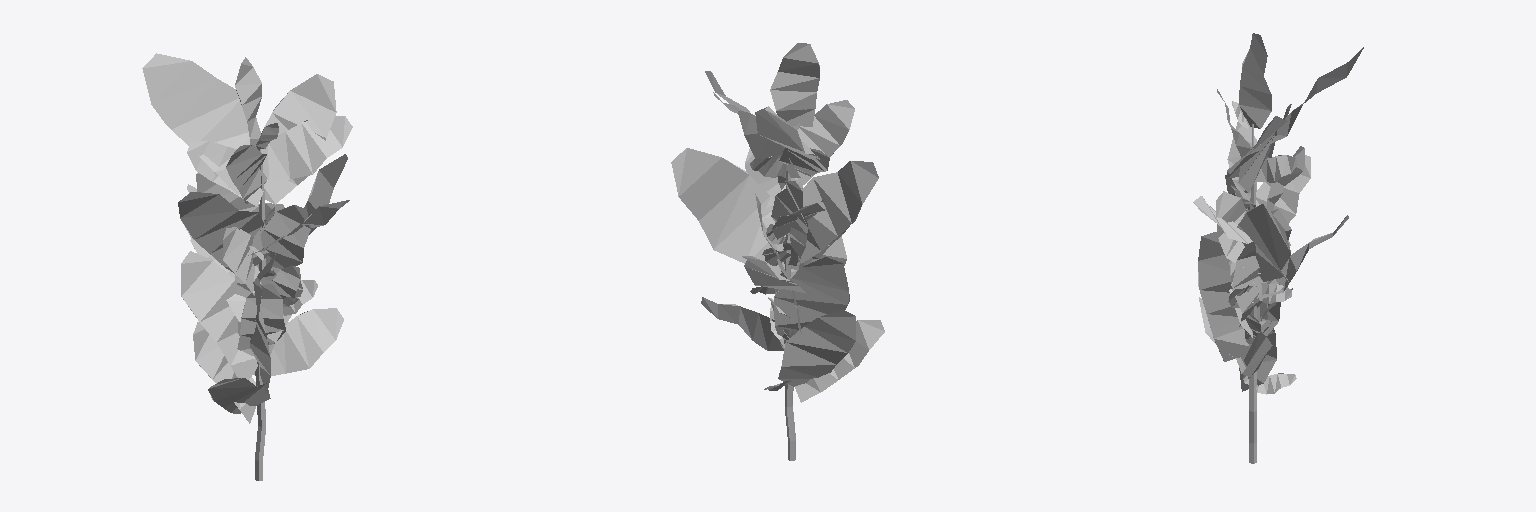
File: tree_3.obj
3 views of the same model, side by side, from view 1: azimuth 30°, elevation 25°; view 2: azimuth 150°, elevation 25°; view 3: azimuth 270°, elevation 25° (orthographic).
Visible parts, largest first — view 1: TexturesCom_Branches0014_1_masked_S.002_TexturesCom_Branches0014, Cylinder.002; view 2: TexturesCom_Branches0014_1_masked_S.002_TexturesCom_Branches0014, Cylinder.002; view 3: TexturesCom_Branches0014_1_masked_S.002_TexturesCom_Branches0014, Cylinder.002.
Part boxes in pixels (x1,y1,x2,y2): TexturesCom_Branches0014_1_masked_S.002_TexturesCom_Branches0014: (142, 53, 352, 423); Cylinder.002: (255, 149, 265, 480); TexturesCom_Branches0014_1_masked_S.002_TexturesCom_Branches0014: (671, 43, 884, 402); Cylinder.002: (784, 125, 795, 460); TexturesCom_Branches0014_1_masked_S.002_TexturesCom_Branches0014: (1193, 33, 1363, 394); Cylinder.002: (1249, 124, 1256, 463).
Size of the model in its own units: 19.36 by 41.31 by 15.43.